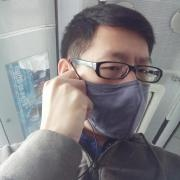Mask: (84, 50, 156, 122)
